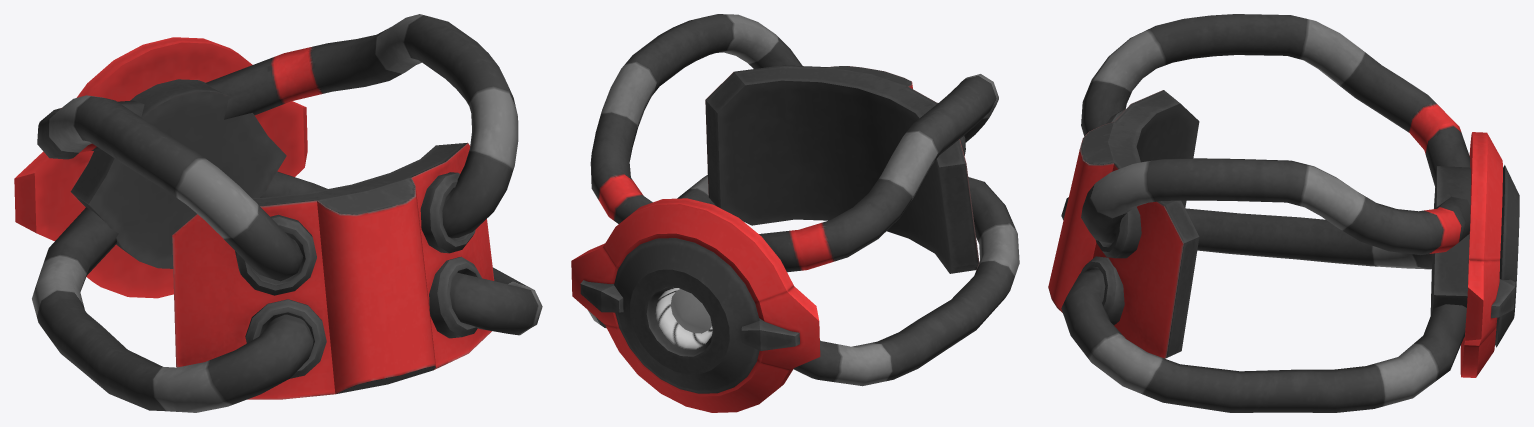
Rendered from IG_Armor_Igny.fbx.
3 views of the same model, side by side, from view 1: azimuth 30°, elevation 25°; view 2: azimuth 150°, elevation 25°; view 3: azimuth 270°, elevation 25° (orthographic). The views are drawn at different scales.
Visible parts, largest first — view 1: Clothes_TwinsBoss; view 2: Clothes_TwinsBoss; view 3: Clothes_TwinsBoss.
Boxes of the visible parts, x1,y1,x2,y2 form: Clothes_TwinsBoss: (14,14,542,412); Clothes_TwinsBoss: (571,14,1019,412); Clothes_TwinsBoss: (1048,14,1519,412).
Size of the model in its own units: 0.6493 by 0.4774 by 0.7323.
